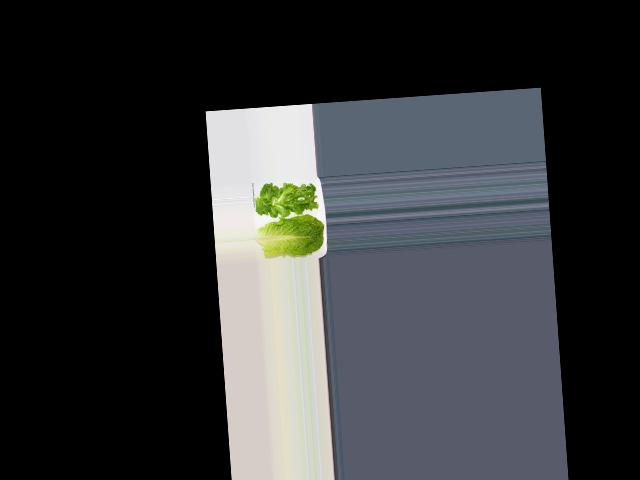lettuce: (255, 176, 319, 217)
